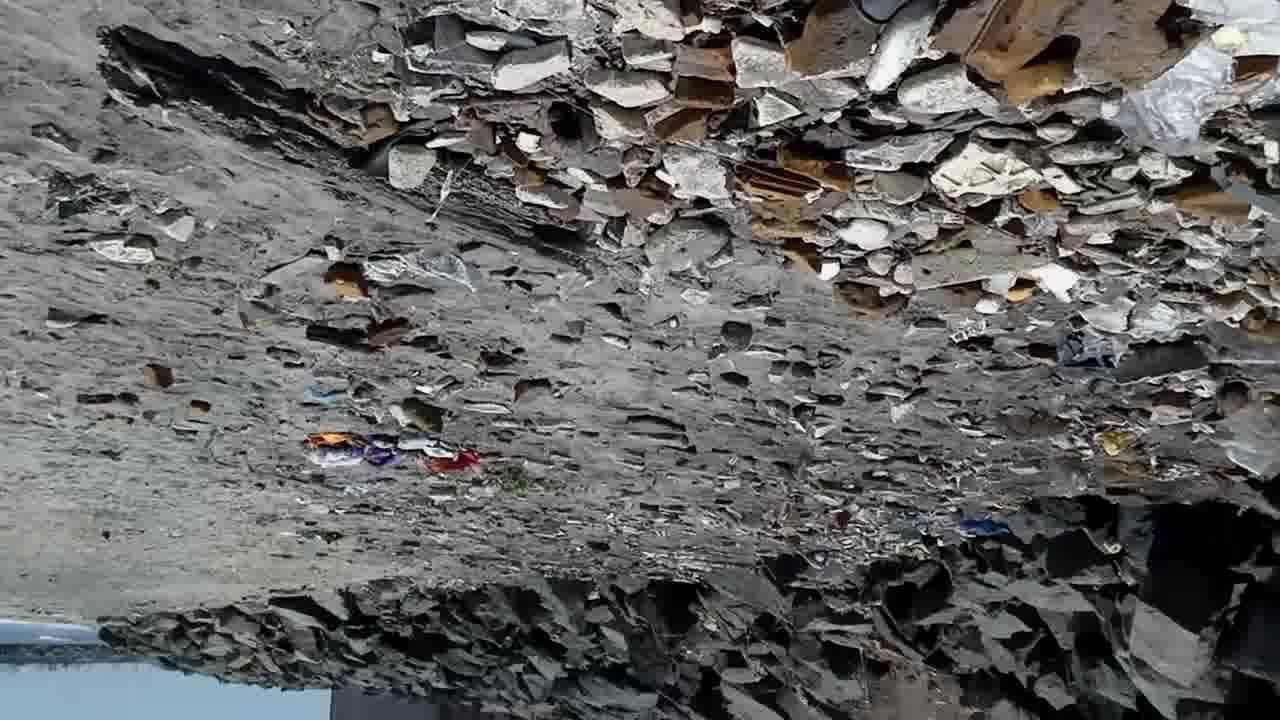large collection of objects: (720, 453, 972, 566)
obj: (96, 20, 607, 281), (858, 16, 1279, 328), (720, 36, 974, 281), (398, 1, 681, 142), (575, 154, 748, 301), (1116, 4, 1272, 164), (936, 6, 1198, 94), (298, 426, 492, 495), (738, 138, 852, 244), (656, 45, 738, 152), (938, 136, 1039, 202), (777, 13, 878, 71), (363, 248, 476, 296), (302, 317, 419, 358), (431, 86, 568, 113), (1176, 175, 1251, 224), (538, 102, 592, 165), (831, 282, 916, 318), (86, 234, 156, 267), (400, 395, 454, 434), (324, 264, 371, 300), (785, 241, 827, 280), (1004, 278, 1044, 306), (1020, 186, 1056, 212), (1100, 432, 1136, 455)
sand/background: (0, 455, 1280, 719)
